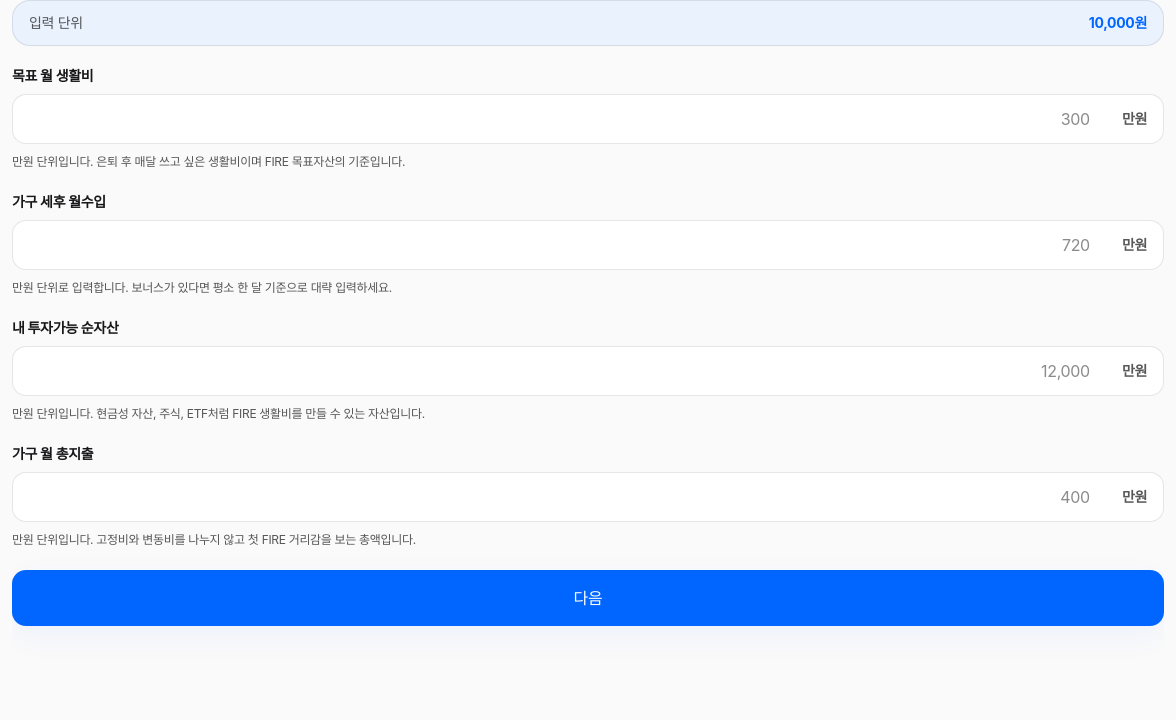
R0OnboardingForm › shows manwon suffixes and formats money inputs with comma separators
Expected: the text "만원" is shown 4 times, [1122,110,1147,127]; [1122,236,1147,253]; [1122,362,1147,379]; [1122,488,1147,505]
Type "12000" into the field labelled "내 투자가능 순자산" at [559, 371], box [13,347,1106,395]
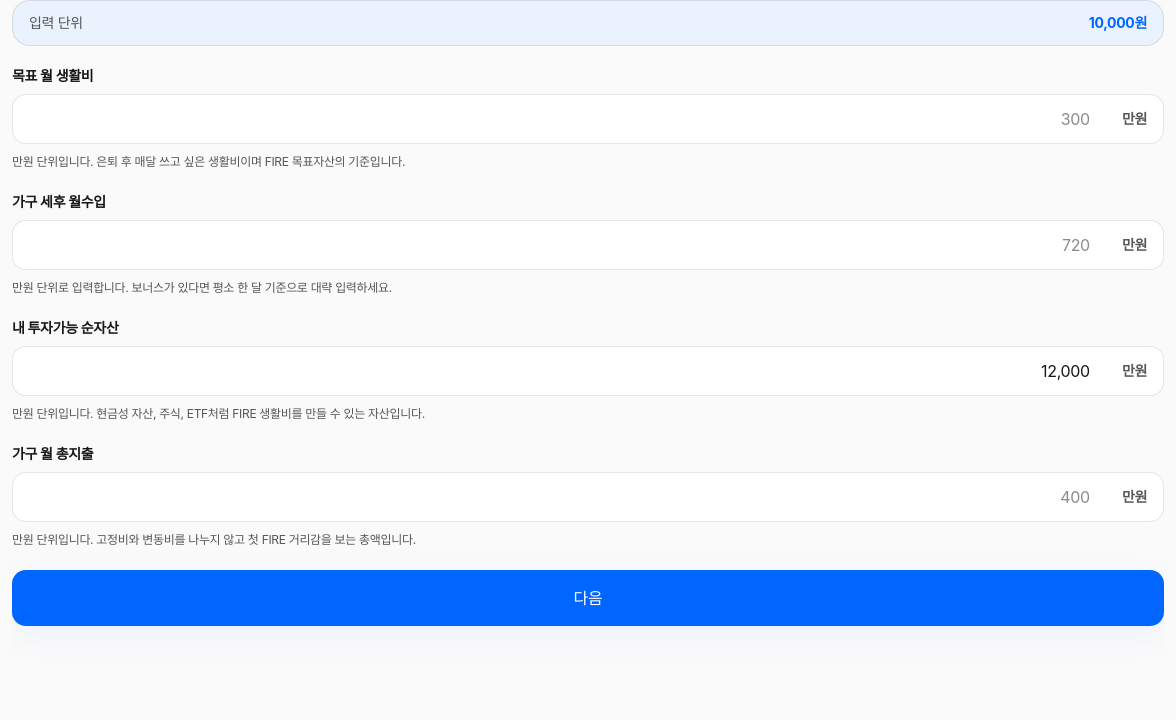
Result: the field labelled "내 투자가능 순자산" holds "12,000" at [13,347,1106,395]
